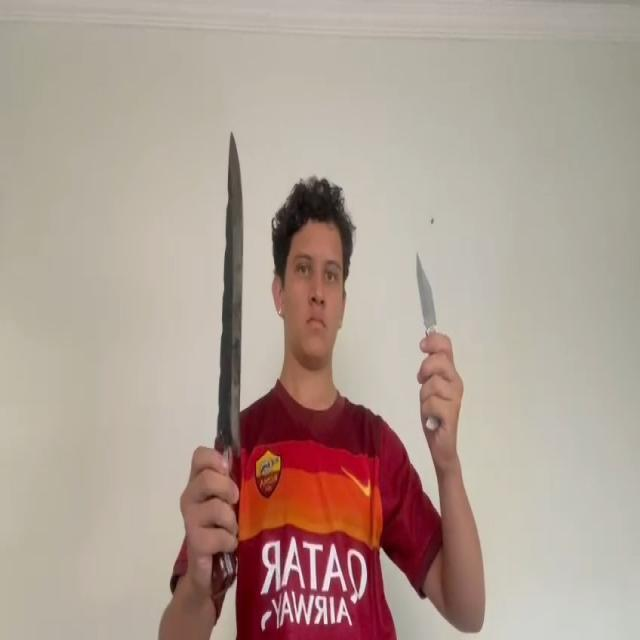knife: (218, 132, 245, 454), (414, 251, 438, 325)
